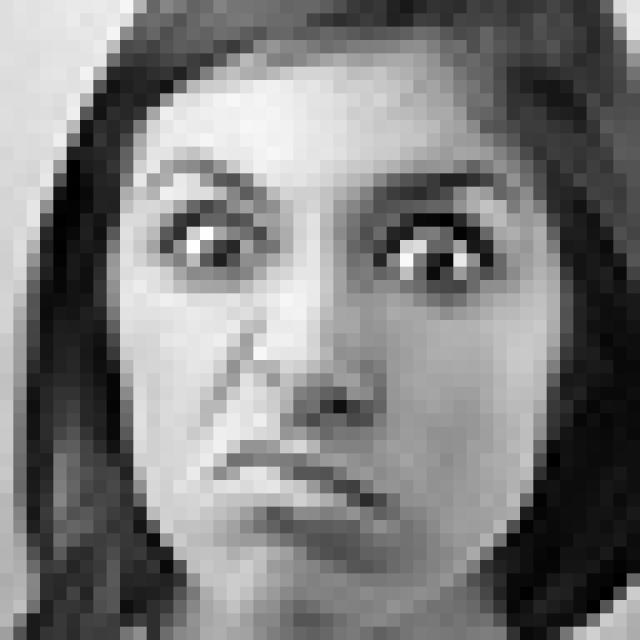disgust: (133, 146, 535, 574)
